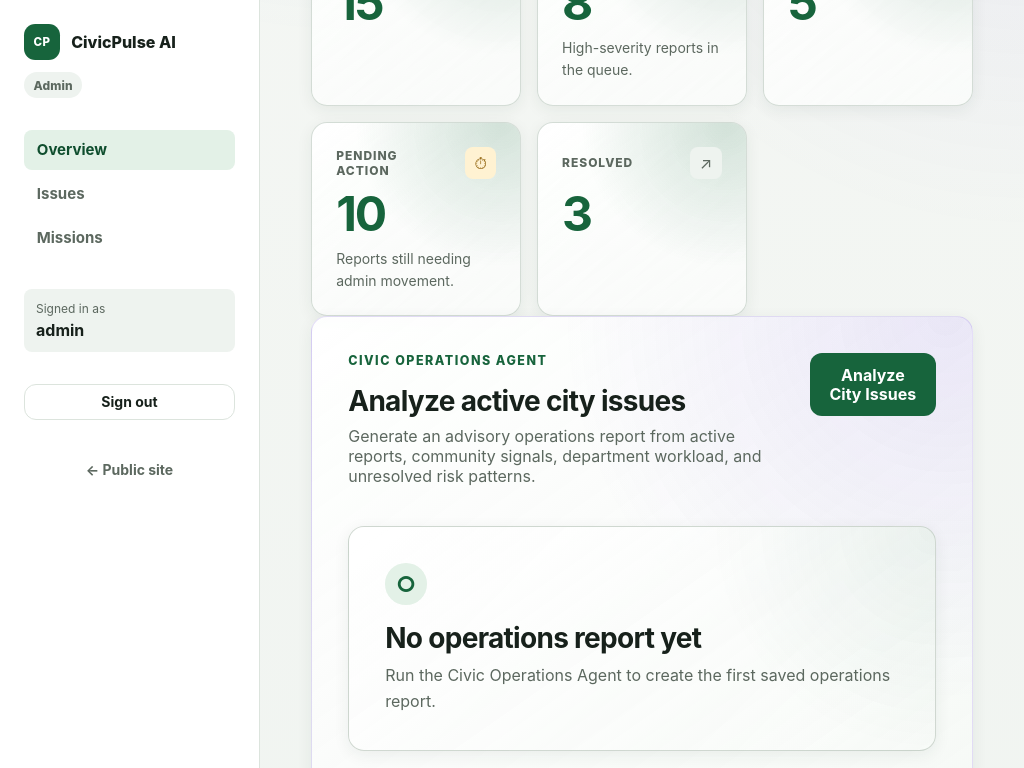
it: administrator workflow › generates an operations report and copies an escalation draft
The width and height of the screenshot is (1024, 768).
(page scrolled)
Check: the heading "Analyze active city issues" is shown, box [348, 384, 686, 418]
Click the button "Analyze City Issues" at [873, 385], box [810, 354, 936, 416]
(page scrolled)
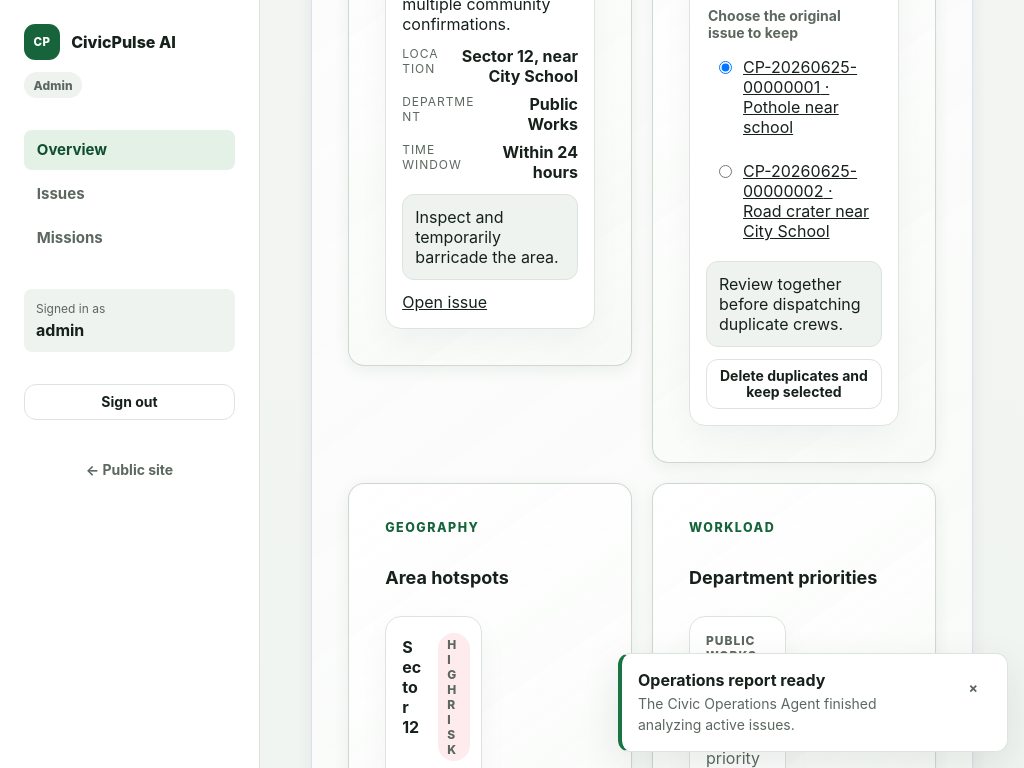
Click the button "Delete duplicates and keep selected" at [794, 384], box [706, 359, 882, 409]
(page scrolled)
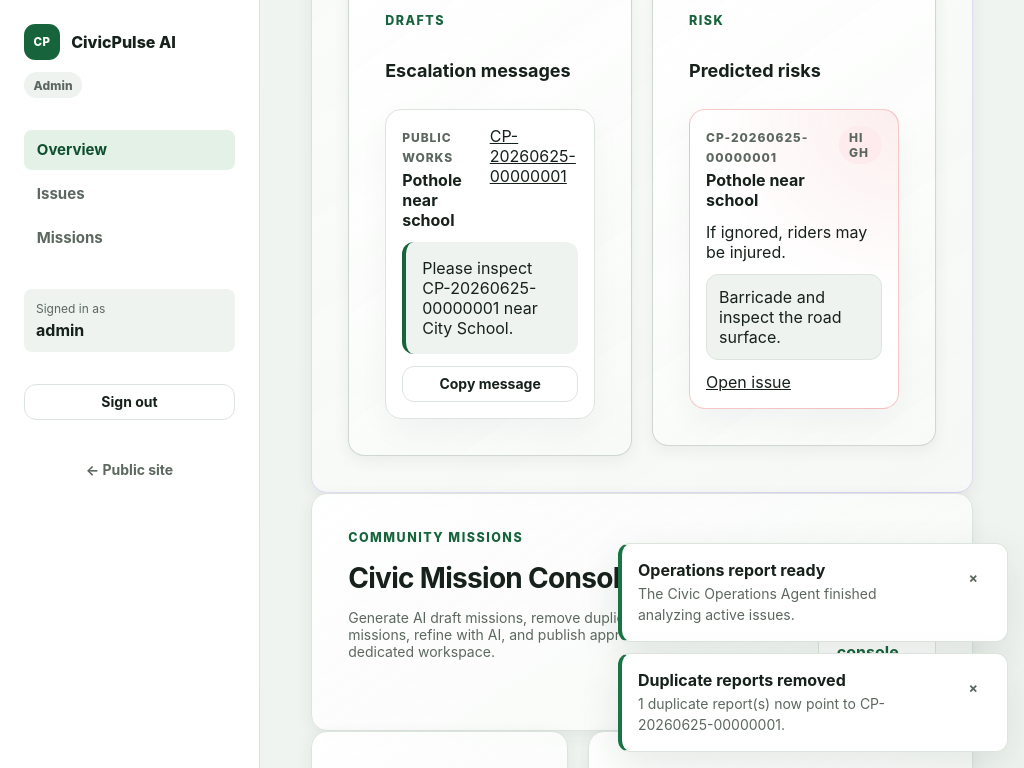
Check: the text "If ignored, riders may be injured." is shown, box [706, 222, 882, 262]
Check: the text "Duplicate reports removed" is shown, box [638, 670, 846, 690]
Click the button "Copy message" at [490, 384], box [402, 366, 578, 402]
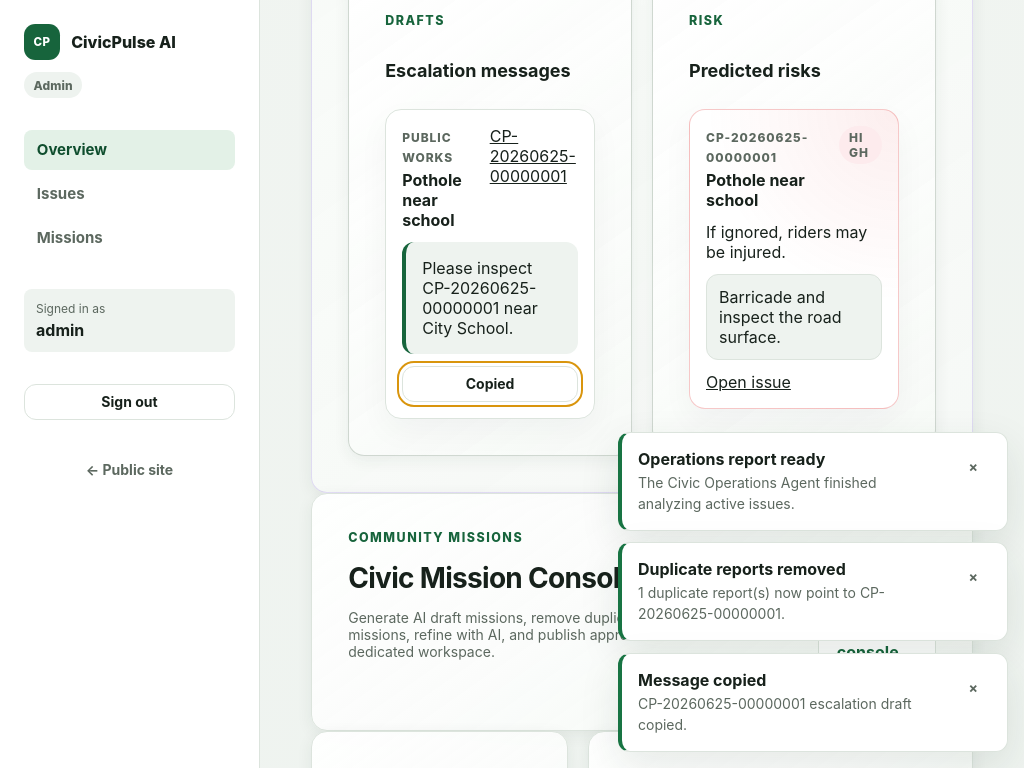
Check: the text "Message copied" is shown, box [638, 670, 766, 690]
